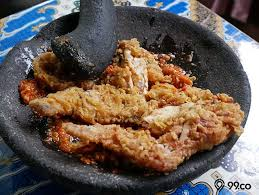ayam_geprek: (77, 64, 204, 173)
